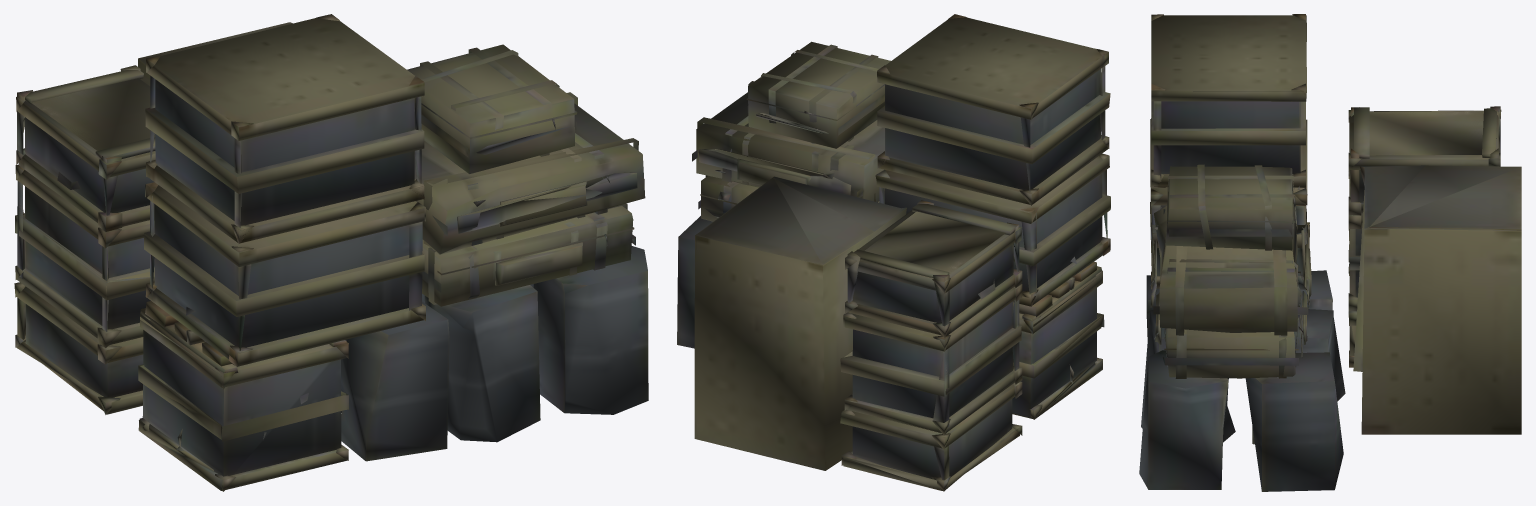
The model's file is l_crates.glb.
3 views of the same model, side by side, from view 1: azimuth 30°, elevation 25°; view 2: azimuth 150°, elevation 25°; view 3: azimuth 270°, elevation 25° (orthographic). The views are drawn at different scales.
Bounding box in the file's own units: 0.9526 × 0.7681 × 0.8574.
1 material, 1 textured.
